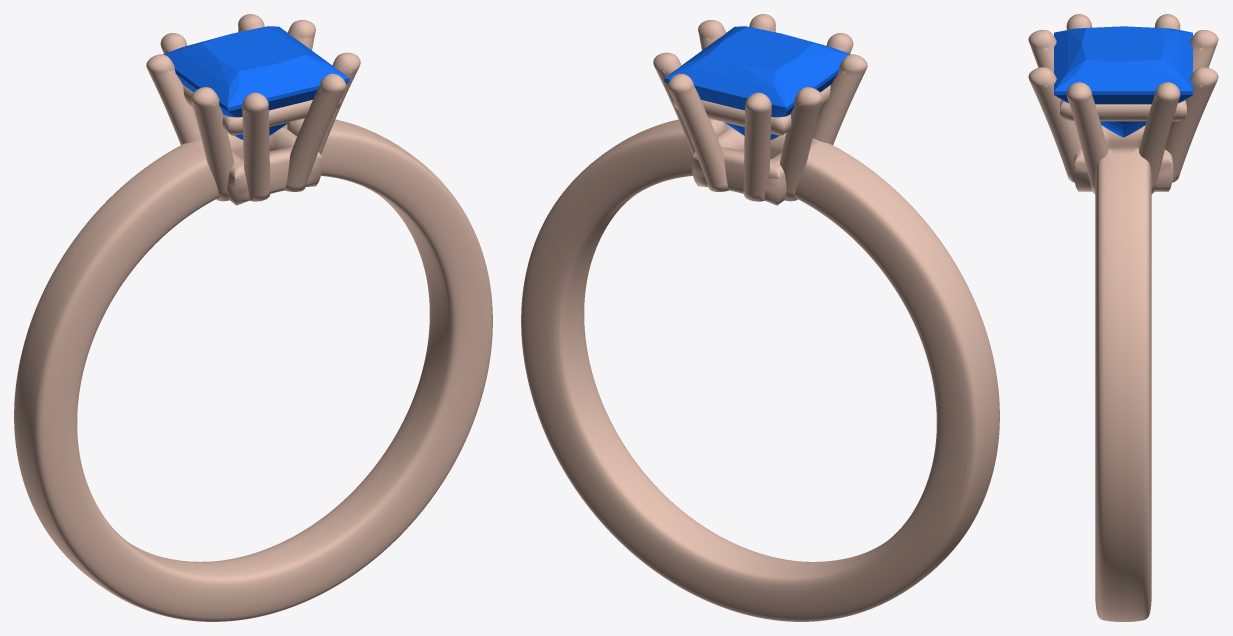
File: bluesapphire-princess-rosegold-8prong-straightband-solitaire.glb
The picture shows the model from 3 angles, left to right: view 1: azimuth 30°, elevation 25°; view 2: azimuth 150°, elevation 25°; view 3: azimuth 270°, elevation 25°; orthographic projection.
Parts seen in each view (by area): view 1: metal, stone; view 2: metal, stone; view 3: metal, stone.
Part boxes in pixels (x1,y1,x2,y2): metal: (14, 14, 492, 621); stone: (163, 26, 349, 139); metal: (521, 14, 999, 621); stone: (664, 26, 850, 139); metal: (1028, 14, 1218, 621); stone: (1054, 26, 1192, 137).
Bounding box in the file's own units: 20.51 × 23.85 × 7.42.
